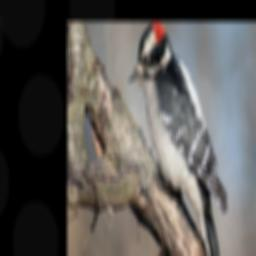Woodpecker: (125, 23, 228, 256)
